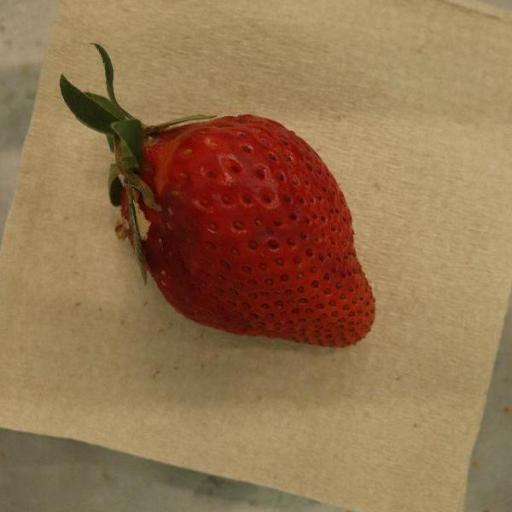Strawberry: (58, 52, 376, 347)
